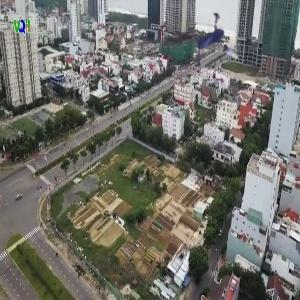drone: (175, 6, 256, 87)
